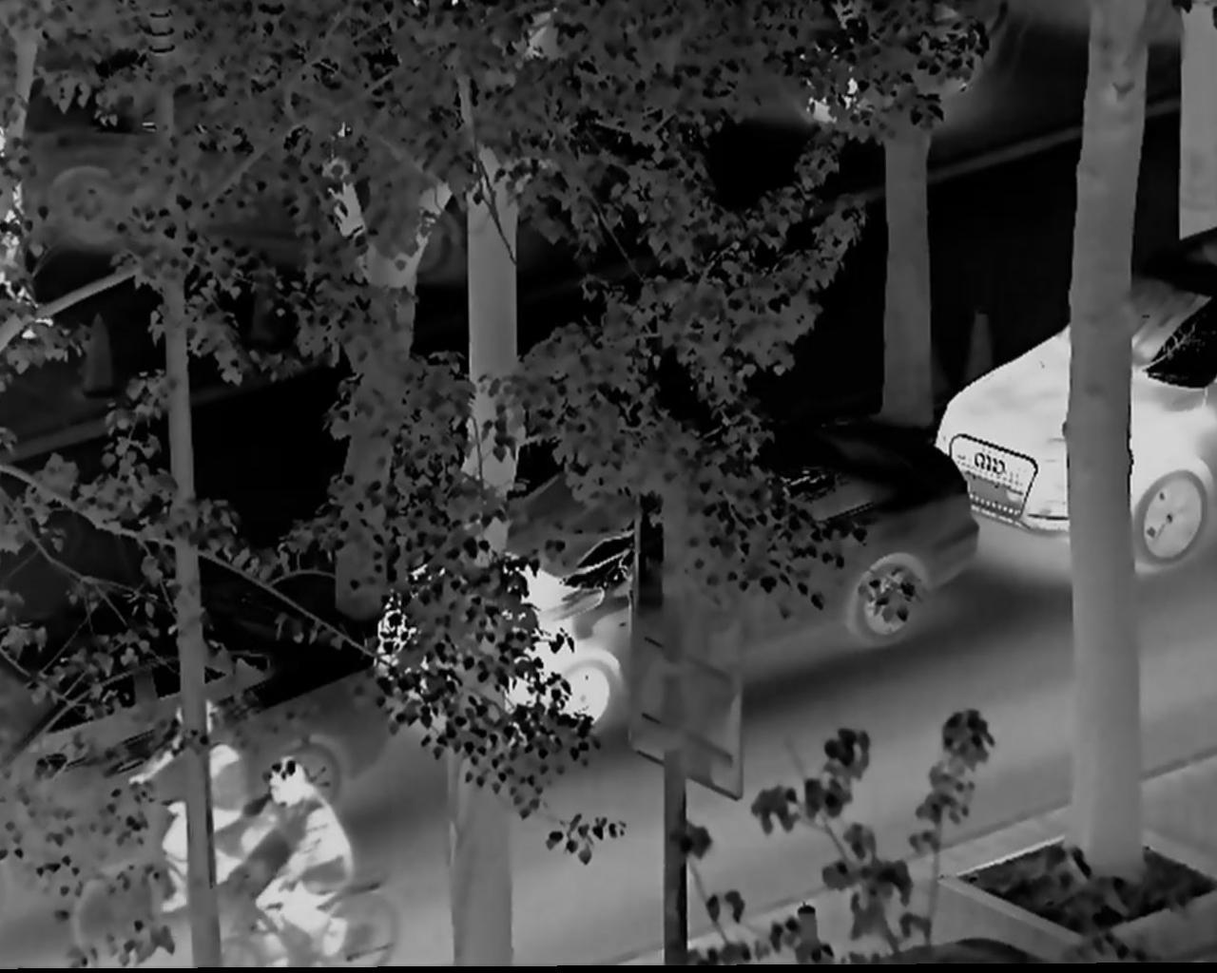person: (223, 748, 380, 973), (131, 702, 260, 908)
